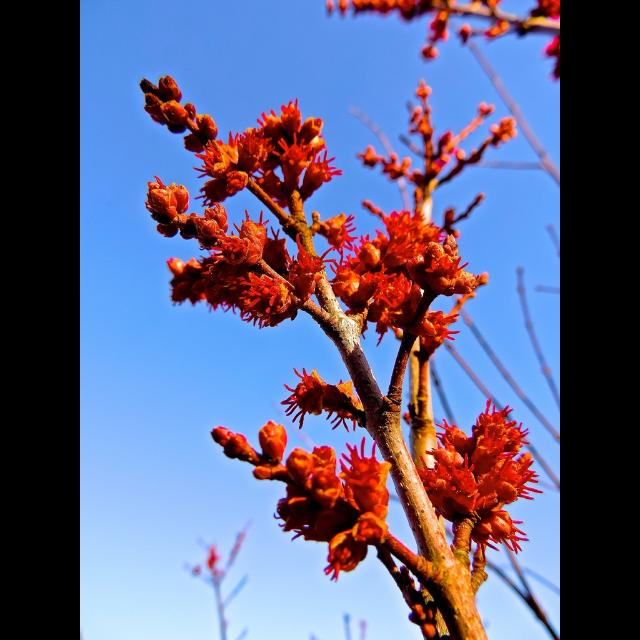Flower: (139, 72, 519, 584), (326, 0, 560, 78), (428, 403, 534, 543)
